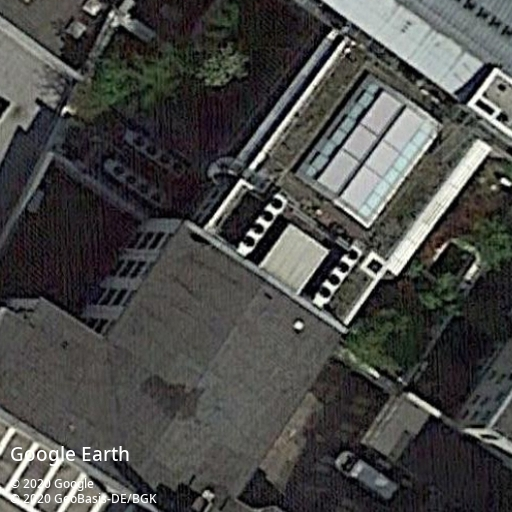Chiller: (101, 157, 169, 207), (236, 193, 289, 257), (313, 243, 366, 307), (123, 127, 189, 177)
